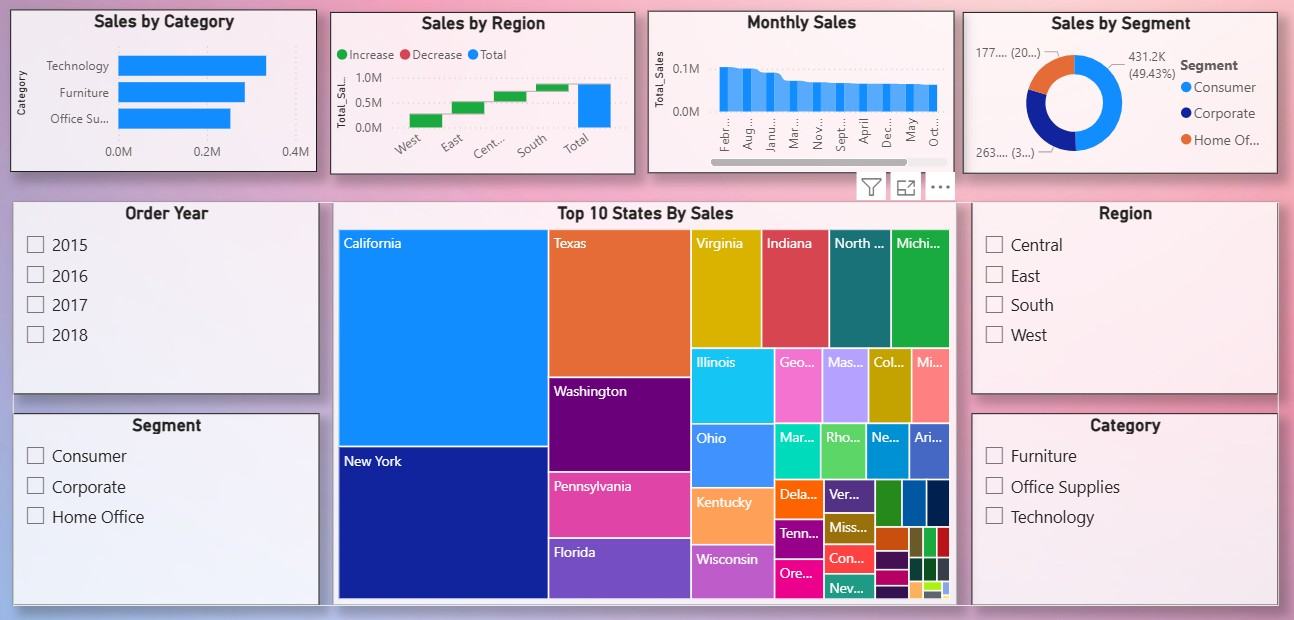

This screenshot's page, from the dashboard's own definition file:
{"tool":"powerbi","page":{"name":"SuperSale Dataset Dashboard","canvas":[1280,720],"ordinal":0},"visuals":[{"type":"clusteredBarChart","title":"Sales by Category","fields":{"Category":["SuperStore Saless Dataset.Category"],"Y":["SuperStore Saless Dataset.Total_Sales"]},"box":[25.3,55.5,295.7,156.7],"z":0,"group":"g1"},{"type":"slicer","title":"Region","fields":{"Values":["SuperStore Saless Dataset.Region"]},"box":[953.4,241.3,295.9,185.9],"z":0,"group":"g2"},{"type":"donutChart","title":"Sales by Segment","fields":{"Category":["SuperStore Saless Dataset.Segment"],"Y":["SuperStore Saless Dataset.Total_Sales"]},"box":[944.9,57.4,304,155.6],"z":1000,"group":"g1"},{"type":"slicer","title":"Category","fields":{"Values":["SuperStore Saless Dataset.Category"]},"box":[953.4,445.5,295.9,185.9],"z":1000,"group":"g2"},{"type":"waterfallChart","title":"Sales by Region","fields":{"Category":["SuperStore Saless Dataset.Region"],"Y":["SuperStore Saless Dataset.Total_Sales"]},"box":[334.1,57.9,294.4,156.8],"z":2000,"group":"g1"},{"type":"slicer","title":"Segment","fields":{"Values":["SuperStore Saless Dataset.Segment"]},"box":[27.7,445.5,295.9,185.9],"z":2000,"group":"g2"},{"type":"ribbonChart","title":"Monthly Sales","fields":{"Category":["SuperStore Saless Dataset.Order Month"],"Y":["SuperStore Saless Dataset.Total_Sales"]},"box":[641,56.6,295.7,156.7],"z":3000,"group":"g1"},{"type":"slicer","title":"Order Year","fields":{"Values":["SuperStore Saless Dataset.Order Year"]},"box":[27.7,241.3,295.9,185.9],"z":3000,"group":"g2"},{"type":"treemap","title":"Top 10 States By Sales","fields":{"Group":["SuperStore Saless Dataset.State"],"Values":["SuperStore Saless Dataset.Total_Sales"]},"box":[336.5,241.3,602,389.7],"z":4000,"group":"g2"},{"type":"group","id":"g1","title":"Group 1","box":[25.3,55.5,1223.3,159.3],"z":4001},{"type":"group","id":"g2","title":"Group 2","box":[27.7,241.3,1222.1,389.7],"z":4002}]}

Visuals, with their boxes on the page's 1280x720 design canvas (x1, y1, x2, y2). These are canvas units, not pixel positions in the 1294x620 screenshot, which may show the page scaled, cropped or inside an application window:
"Sales by Category" clusteredBarChart: (x1=25, y1=56, x2=321, y2=212)
"Region" slicer: (x1=953, y1=241, x2=1249, y2=427)
"Sales by Segment" donutChart: (x1=945, y1=57, x2=1249, y2=213)
"Category" slicer: (x1=953, y1=446, x2=1249, y2=631)
"Sales by Region" waterfallChart: (x1=334, y1=58, x2=628, y2=215)
"Segment" slicer: (x1=28, y1=446, x2=324, y2=631)
"Monthly Sales" ribbonChart: (x1=641, y1=57, x2=937, y2=213)
"Order Year" slicer: (x1=28, y1=241, x2=324, y2=427)
"Top 10 States By Sales" treemap: (x1=336, y1=241, x2=938, y2=631)
"Group 1" group: (x1=25, y1=56, x2=1249, y2=215)
"Group 2" group: (x1=28, y1=241, x2=1250, y2=631)
